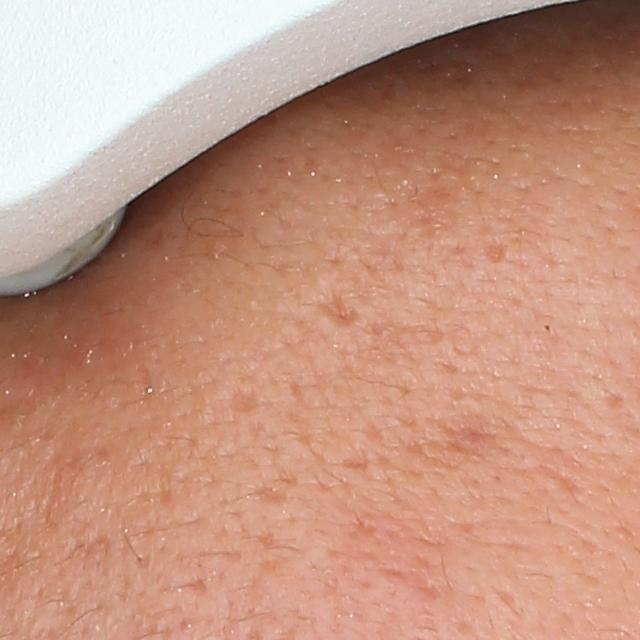atrophic_scar: (375, 565, 442, 604), (317, 288, 366, 328), (248, 477, 290, 508), (226, 385, 261, 414), (482, 236, 506, 265)
